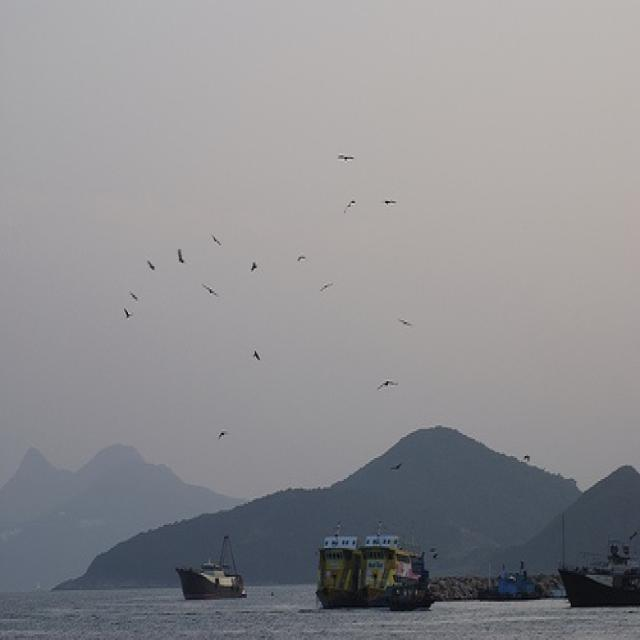boat: (553, 531, 639, 607), (357, 522, 426, 608), (174, 529, 247, 598), (312, 522, 358, 608), (474, 558, 544, 600)
